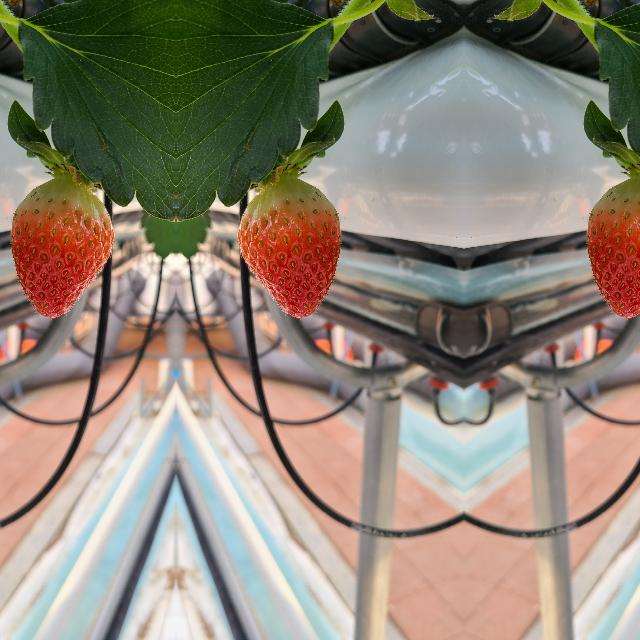Health_100: (235, 178, 341, 320), (9, 178, 115, 320), (585, 178, 640, 320)
